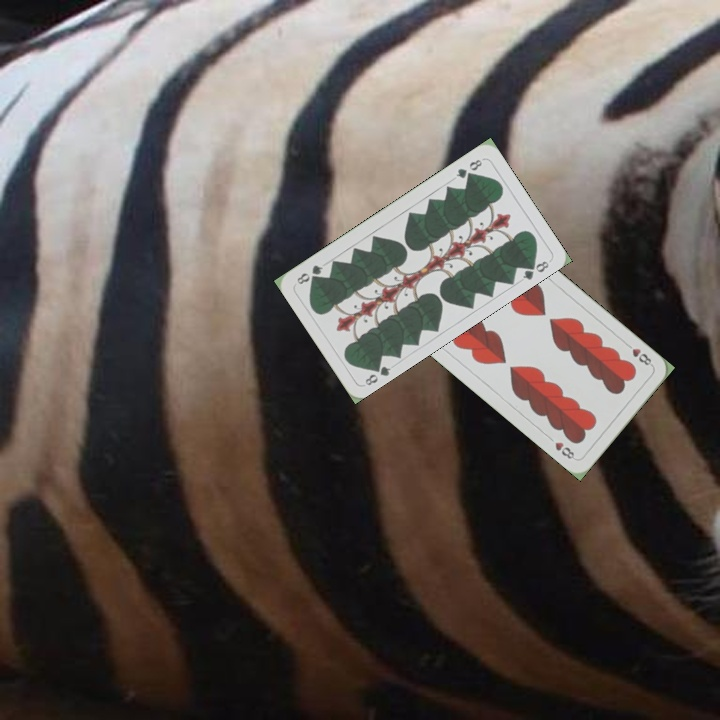G8: (361, 359, 393, 388), (452, 155, 485, 181)
H8: (621, 339, 655, 369)
